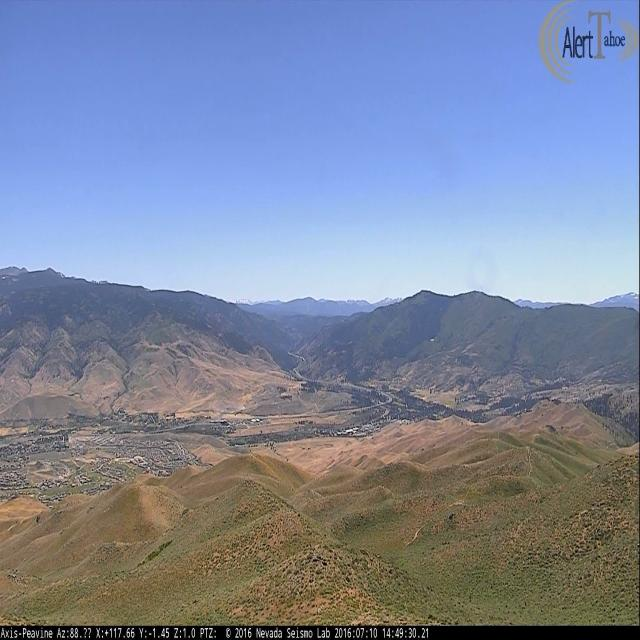smoke: (239, 402, 246, 411)
